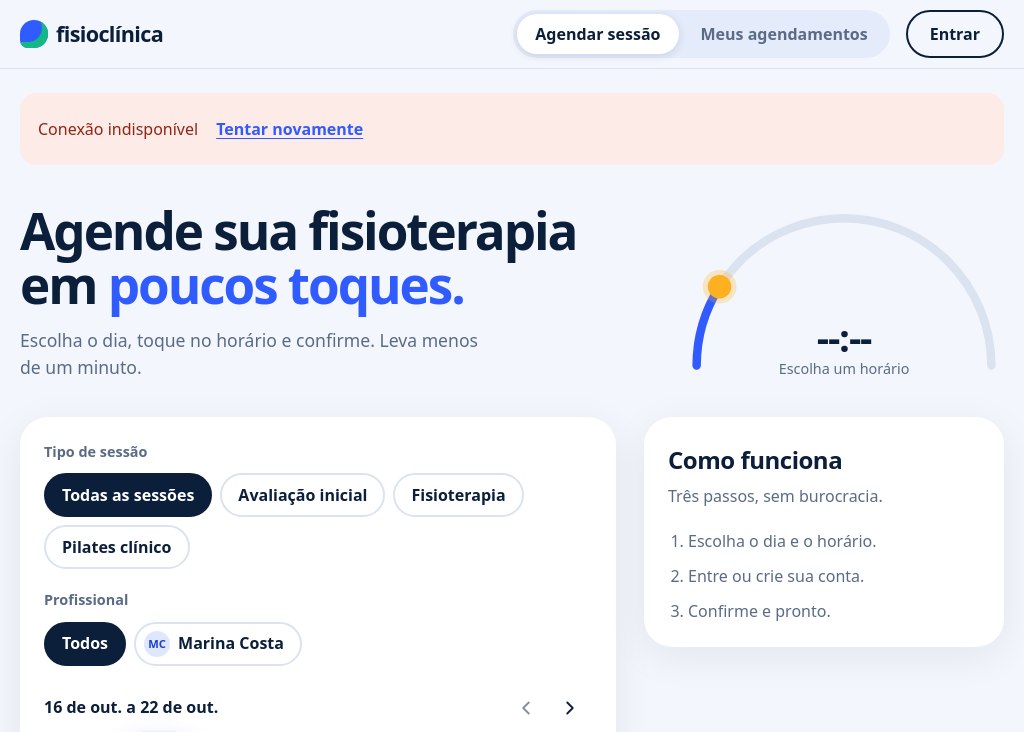
Test: mostra falha de conexão e recupera a consulta com tentar novamente
Click the button "Tentar novamente".
click(290, 129)  # box x1=210 y1=107 x2=369 y2=151
(page scrolled)
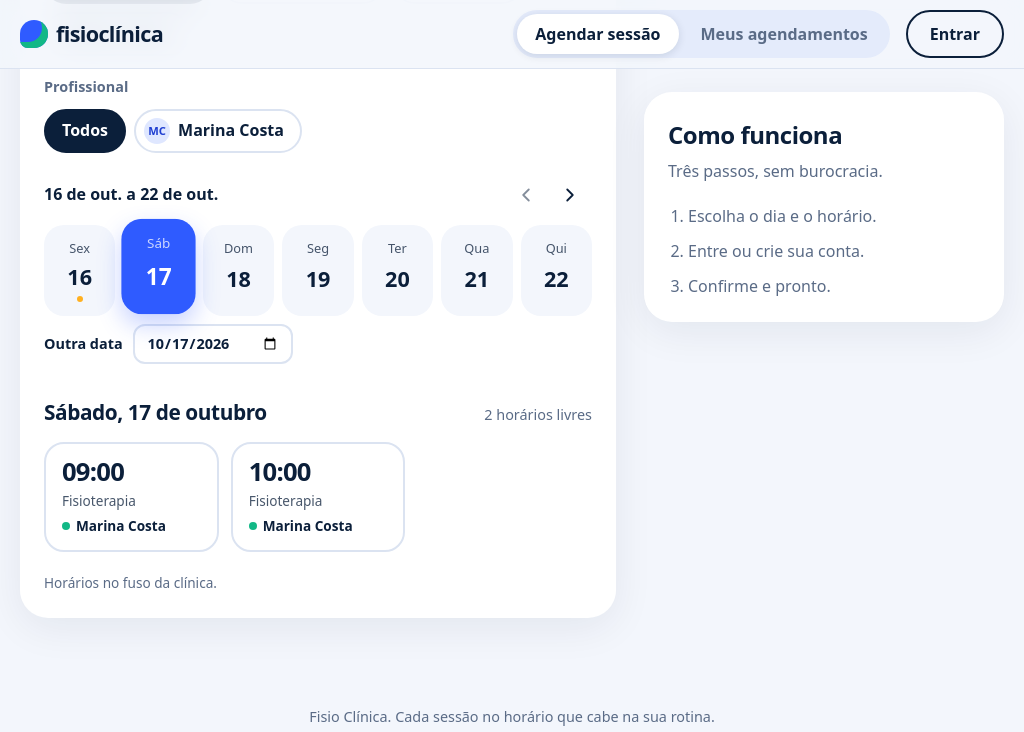
Result: the message "Conexão indisponível Tentar novamente" is gone
Result: the button "09:00 Fisioterapia Marina Costa" is shown at x1=44 y1=442 x2=219 y2=552
